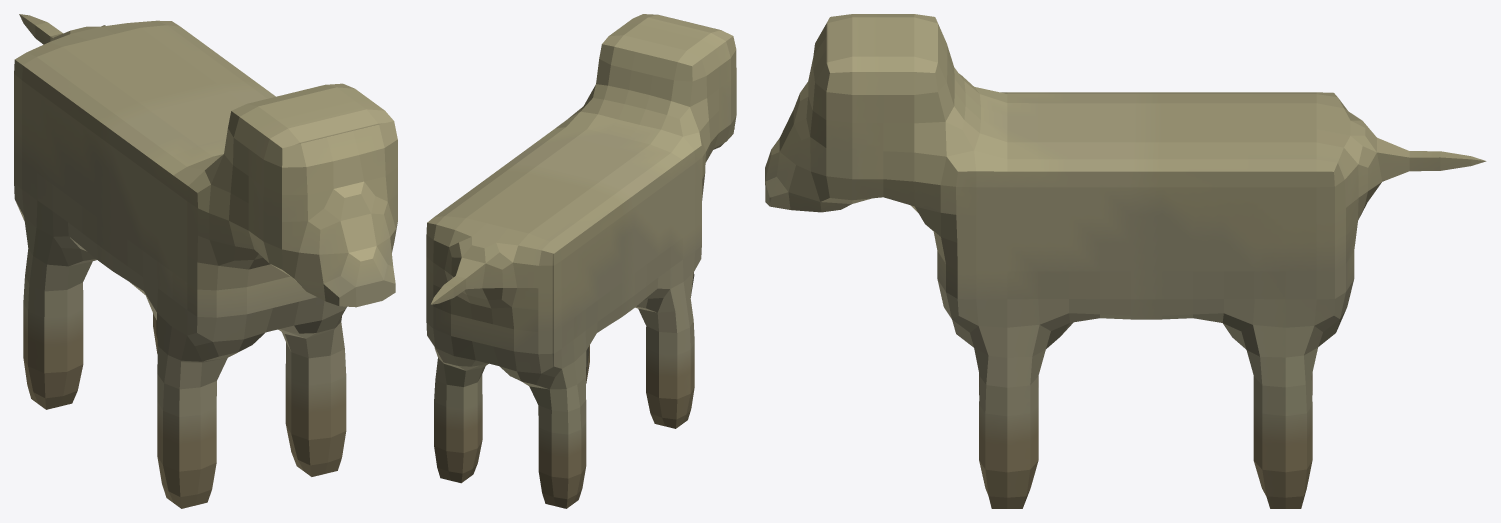
File: boar.glb
The picture shows the model from 3 angles, left to right: view 1: azimuth 30°, elevation 25°; view 2: azimuth 150°, elevation 25°; view 3: azimuth 270°, elevation 25°; orthographic projection. The views are drawn at different scales.
Visible parts, largest first — view 1: geometry_0; view 2: geometry_0; view 3: geometry_0.
Part boxes in pixels (x1,y1,x2,y2): geometry_0: (14,14,397,508); geometry_0: (426,14,736,508); geometry_0: (765,14,1486,508).
Bounding box in the file's own units: 0.4437 × 1 × 1.51.
Materials: 1 (1 with a texture image).
